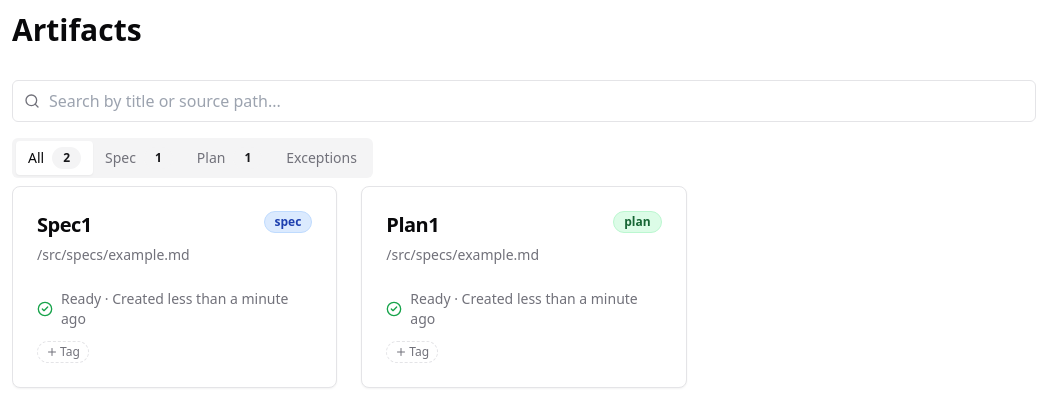
Test: ArtifactListView › filters by category when a category tab is clicked
Step 1. Click the tab "spec 1" → [139, 158], box [93,141,185,175]
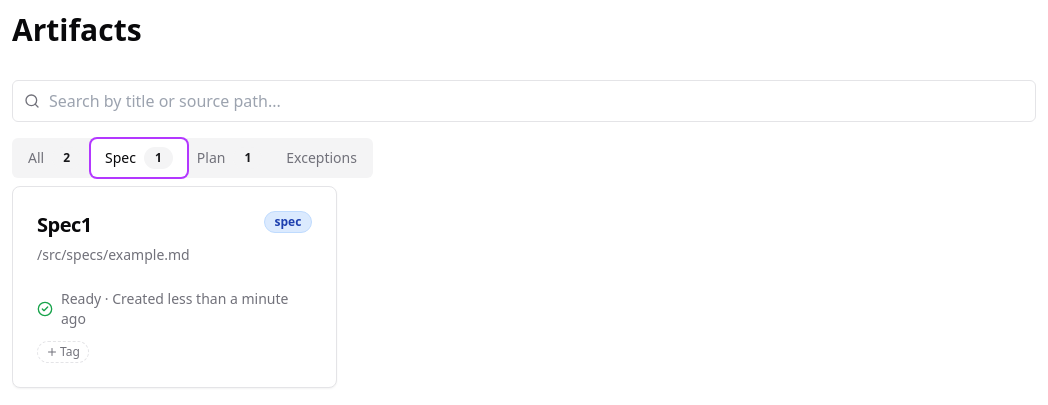
Expected: the text "Spec1" is shown, [37,211,92,238]
Now the button "Plan1" is gone
